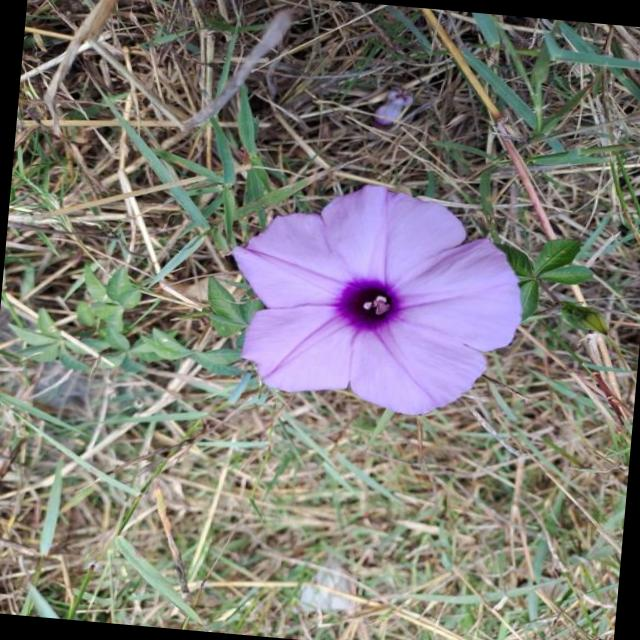ipomoea: (214, 170, 535, 426)
